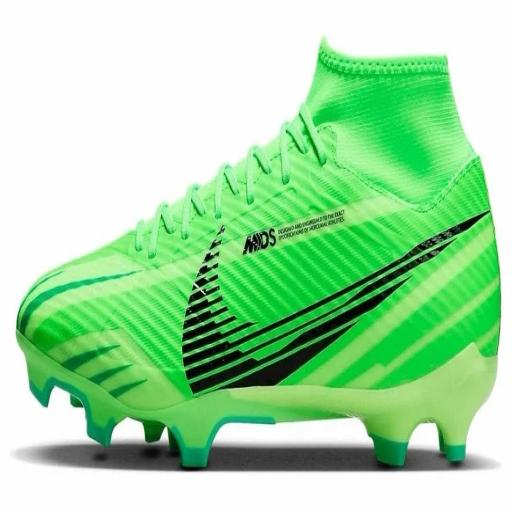shoe: (17, 42, 500, 466)
